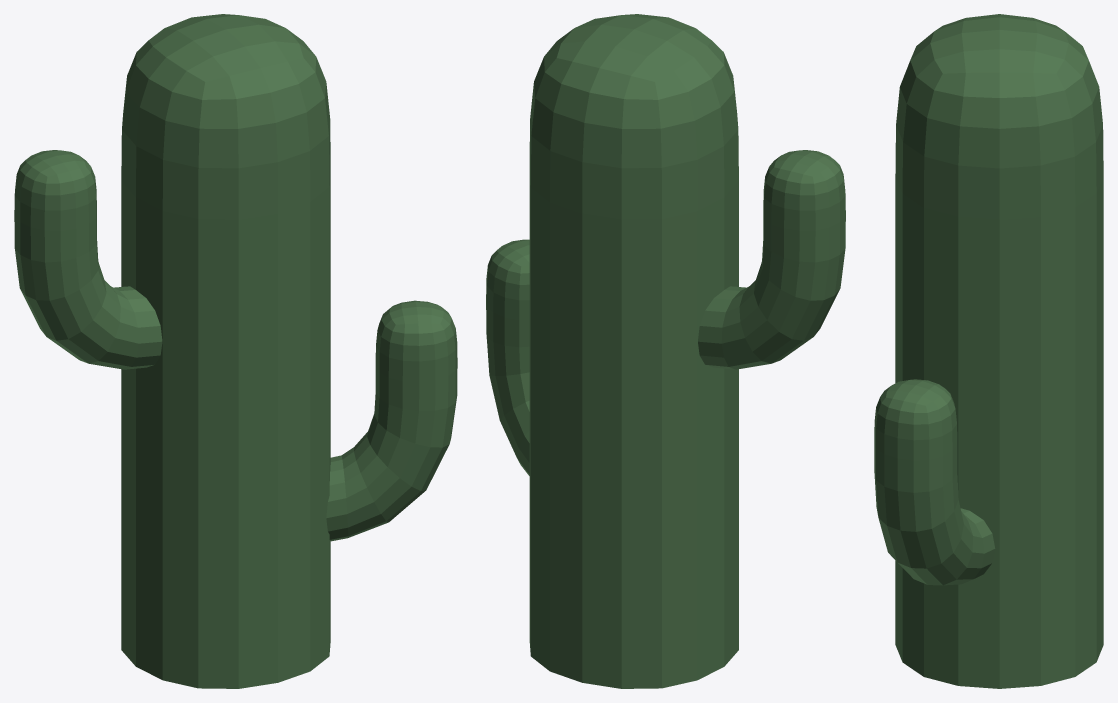
Rendered from Cactus2.fbx.
3 views of the same model, side by side, from view 1: azimuth 30°, elevation 25°; view 2: azimuth 150°, elevation 25°; view 3: azimuth 270°, elevation 25° (orthographic).
Parts seen in each view (by area): view 1: Cactus2; view 2: Cactus2; view 3: Cactus2.
Part boxes in pixels (box(x1,y1,x2,y2)): Cactus2: box(14, 14, 457, 688); Cactus2: box(486, 14, 845, 688); Cactus2: box(874, 14, 1103, 688).
Size of the model in its own units: 0.0109 by 0.0164 by 0.00553.
